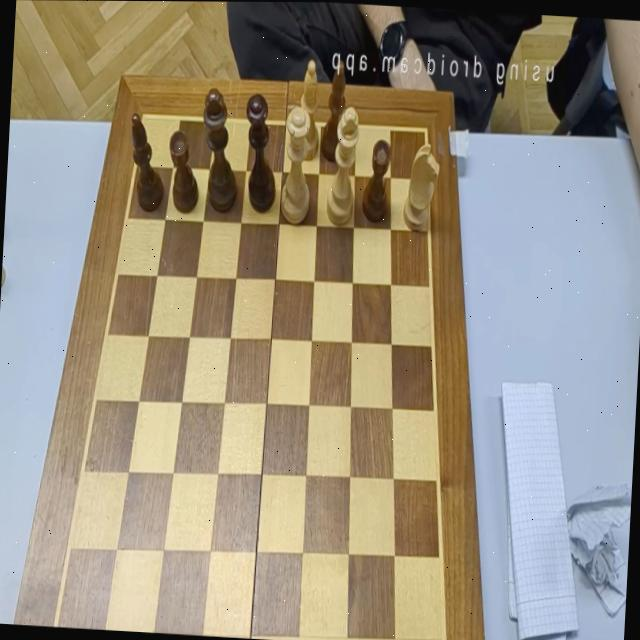black_bishop: (126, 112, 168, 213), (320, 59, 348, 163)
black_king: (198, 87, 243, 213)
black_queen: (240, 92, 280, 215)
black_rook: (166, 129, 202, 214), (360, 138, 392, 224)
white_bishop: (298, 58, 324, 159)
white_king: (325, 105, 361, 225)
white_knight: (402, 141, 441, 233)
white_queen: (279, 106, 314, 226)
